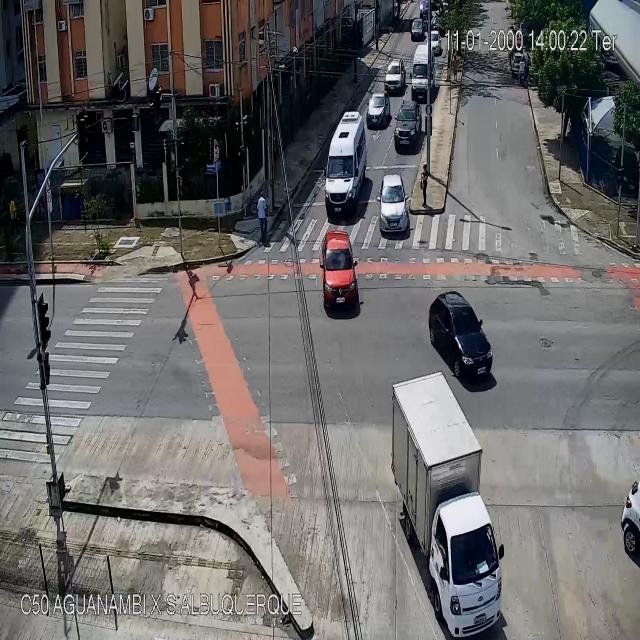Car: (428, 290, 494, 378), (325, 111, 366, 210), (319, 234, 359, 305), (377, 176, 410, 240), (409, 46, 434, 98), (394, 101, 419, 148), (367, 92, 390, 128), (387, 59, 405, 94), (427, 30, 441, 54), (512, 53, 527, 74), (411, 18, 422, 37)
Motorcycle: (518, 57, 525, 88)
Truck: (390, 371, 504, 636)
